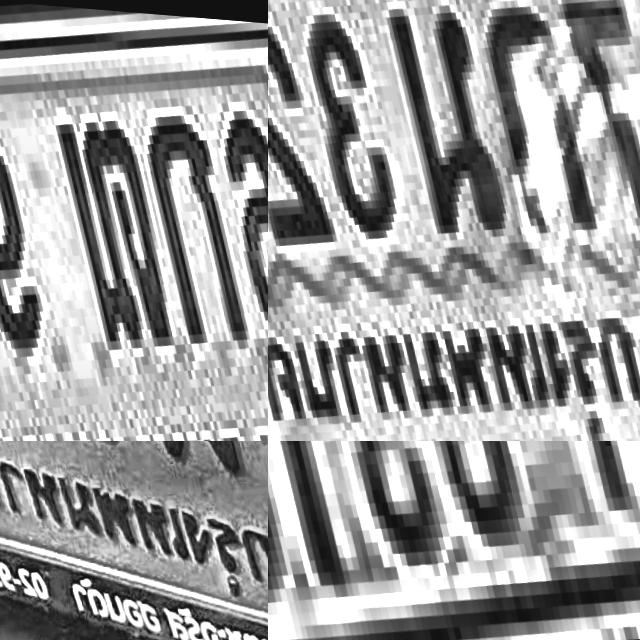license-plate: (268, 0, 640, 441), (0, 0, 268, 441), (268, 441, 640, 640), (0, 441, 268, 640)
